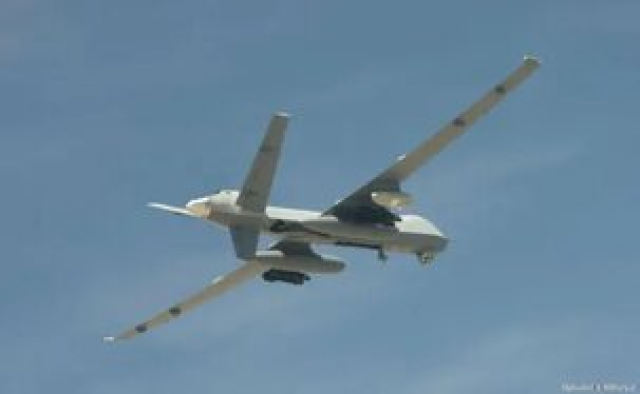military drone: (102, 53, 543, 342)
